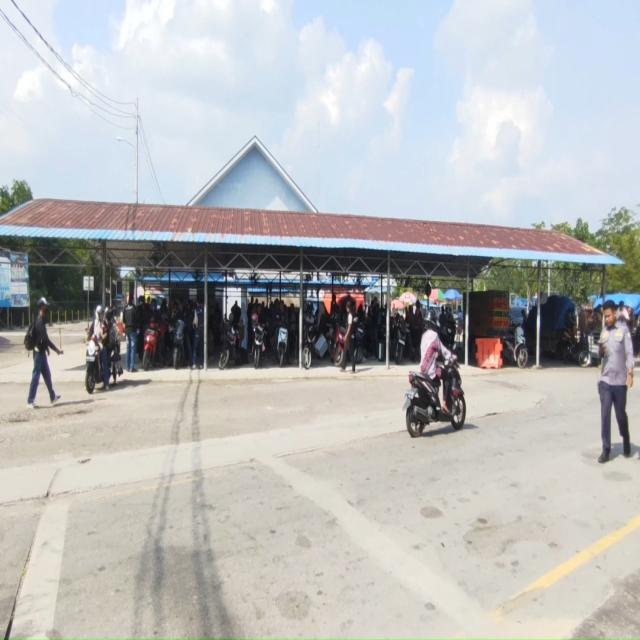Golongan II: (403, 360, 466, 437), (503, 326, 528, 369), (558, 335, 590, 367), (85, 335, 102, 394), (219, 322, 238, 371), (142, 321, 159, 371), (252, 317, 266, 369), (302, 319, 316, 370), (105, 347, 123, 385), (439, 312, 457, 350), (395, 318, 408, 366), (274, 326, 289, 367), (173, 320, 185, 370), (333, 325, 346, 366), (354, 322, 366, 364)
